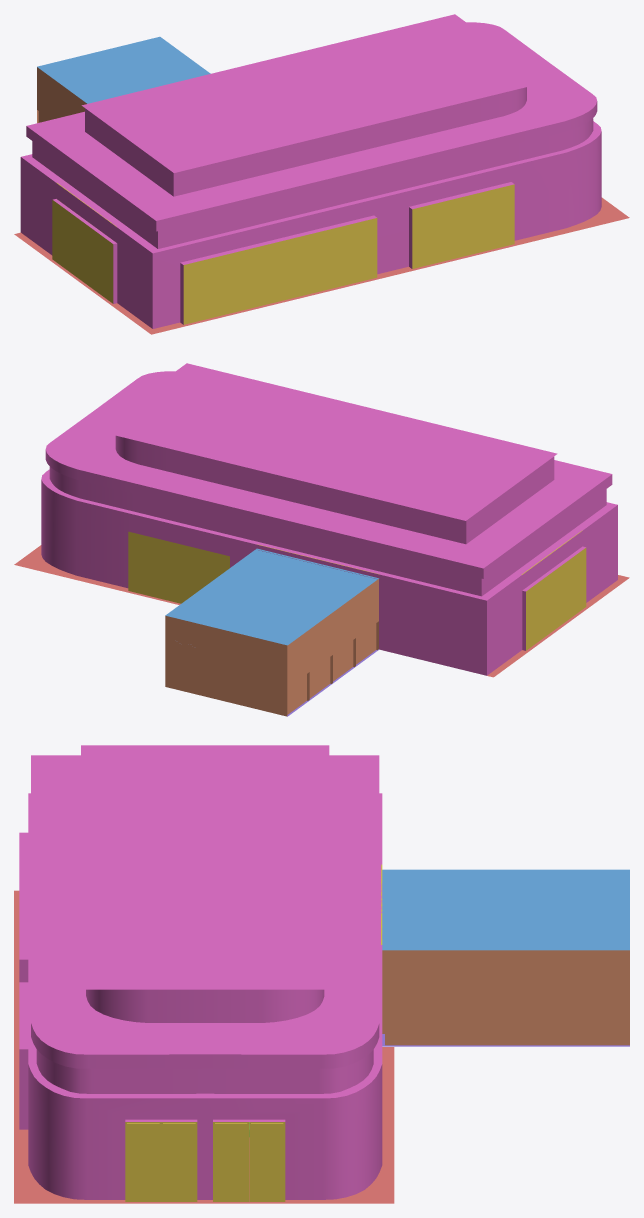
Rendered from mall & restaurant.fbx.
3 renders of one model, top to bottom at view 1: azimuth 30°, elevation 25°; view 2: azimuth 150°, elevation 25°; view 3: azimuth 270°, elevation 25°, orthographic. The views are drawn at different scales.
Visible parts, largest first — view 1: mall walls, roof.005, floor.010, roof.001, floor.012, floor.009, floor.002, wall.001; view 2: mall walls, roof.005, wall.001, roof.001, floor.011, floor.009, floor.002; view 3: mall walls, roof.005, wall.001, roof.001, floor.002, floor.014, floor.013.
Boxes of the visible parts, <box> form: mall walls: <box>20,22,601,328</box>; roof.005: <box>81,14,546,172</box>; floor.010: <box>183,218,377,324</box>; roof.001: <box>37,36,210,103</box>; floor.012: <box>412,184,514,268</box>; floor.009: <box>52,200,113,303</box>; floor.002: <box>14,197,629,334</box>; wall.001: <box>37,67,86,123</box>; mall walls: <box>41,371,617,675</box>; roof.005: <box>95,363,557,520</box>; wall.001: <box>165,579,378,716</box>; roof.001: <box>165,548,378,645</box>; floor.011: <box>128,531,229,603</box>; floor.009: <box>526,548,586,650</box>; floor.002: <box>14,545,629,677</box>; mall walls: <box>19,755,382,1199</box>; roof.005: <box>81,745,329,989</box>; wall.001: <box>382,950,629,1045</box>; roof.001: <box>382,869,629,950</box>; floor.002: <box>14,890,394,1203</box>; floor.014: <box>125,1122,197,1201</box>; floor.013: <box>213,1122,285,1201</box>.
Size of the model in its own units: 20.94 by 5.5 by 17.41.
